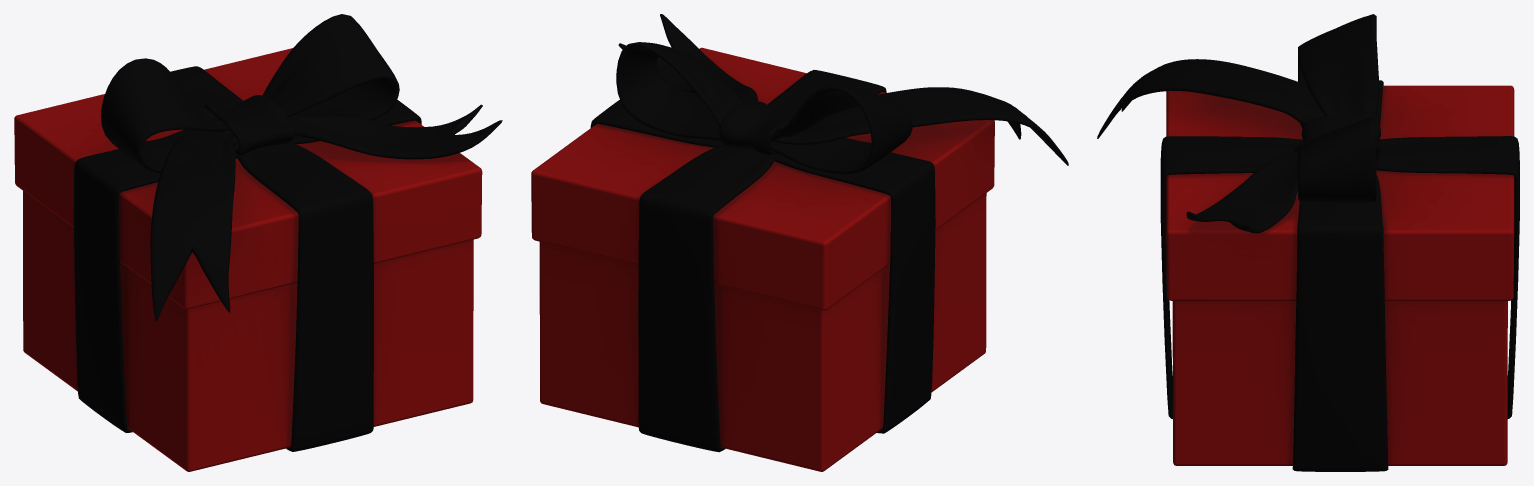
Rendered from present.glb.
3 renders of one model, left to right at view 1: azimuth 30°, elevation 25°; view 2: azimuth 150°, elevation 25°; view 3: azimuth 270°, elevation 25°, orthographic.
Parts seen in each view (by area): view 1: node_id136; view 2: node_id136; view 3: node_id136.
Boxes of the visible parts, x1,y1,x2,y2 form: node_id136: (14,14,502,471); node_id136: (531,14,1068,471); node_id136: (1097,14,1519,471).
Bounding box in the file's own units: 0.3239 × 0.266 × 0.3007.
Materials: 1 (1 with a texture image).
